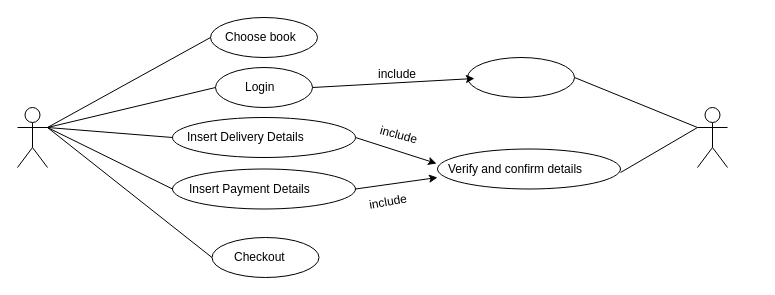
The diagram is 775 pixels wide and 295 high, and some of its shapes have lost their labels. Each missing label, with the centre of its shape:
"System Manager" belongs at (712,137).
"User" belongs at (32,137).
"Verify Login" belongs at (520,77).
